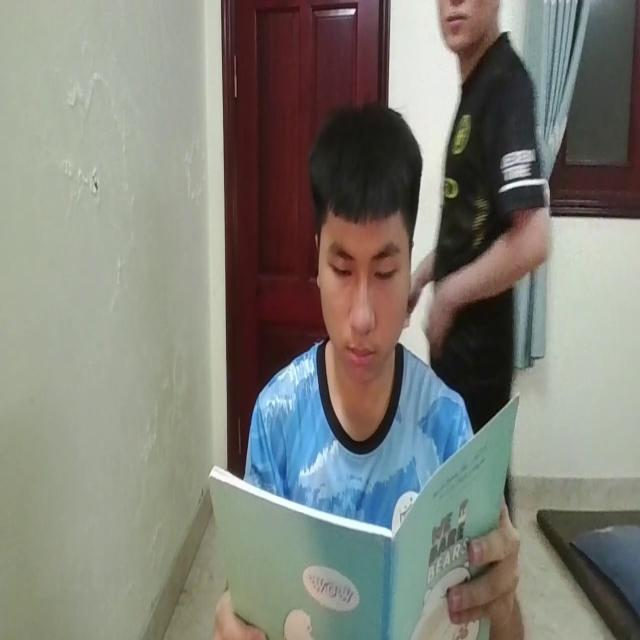book: (201, 394, 520, 640)
extra_person: (411, 0, 550, 389)
student: (241, 98, 468, 476)
